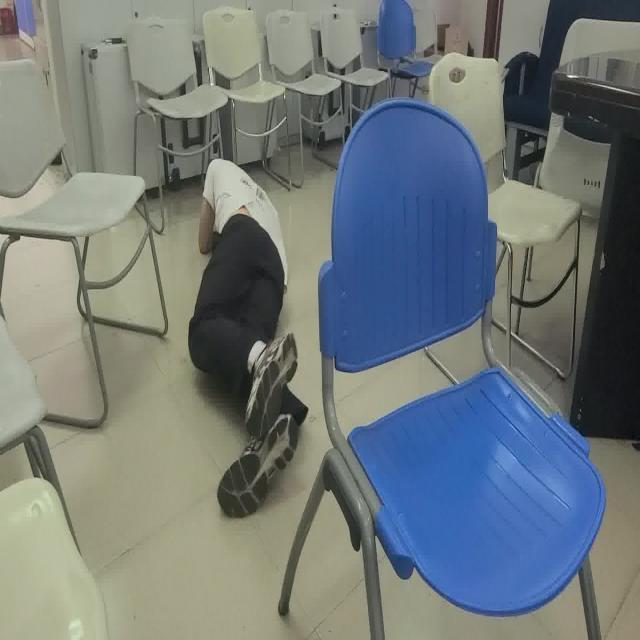fall: (188, 155, 310, 523)
